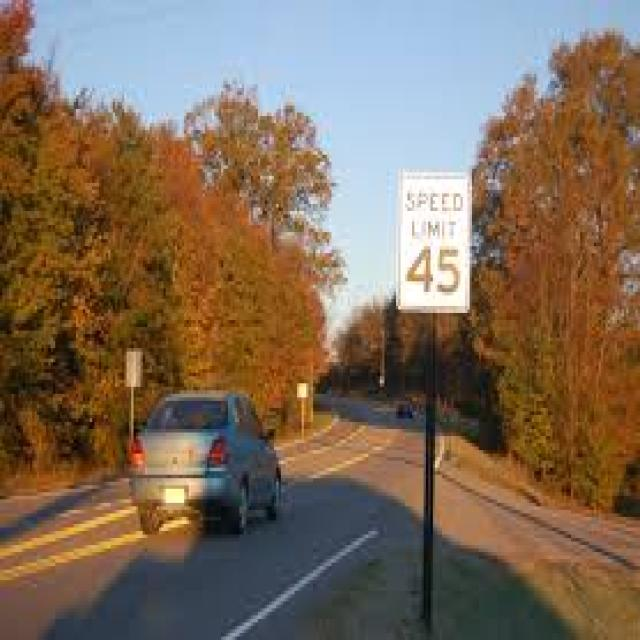speedLimit45: (402, 172, 471, 313)
